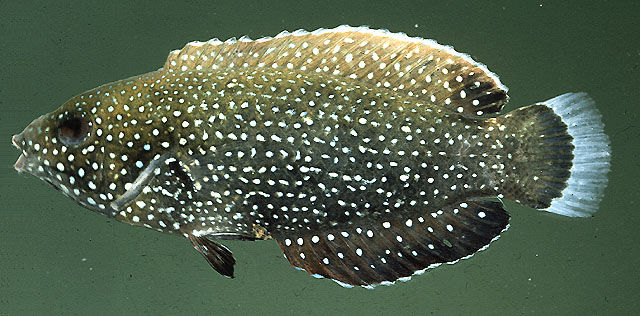fish: (11, 25, 615, 290)
